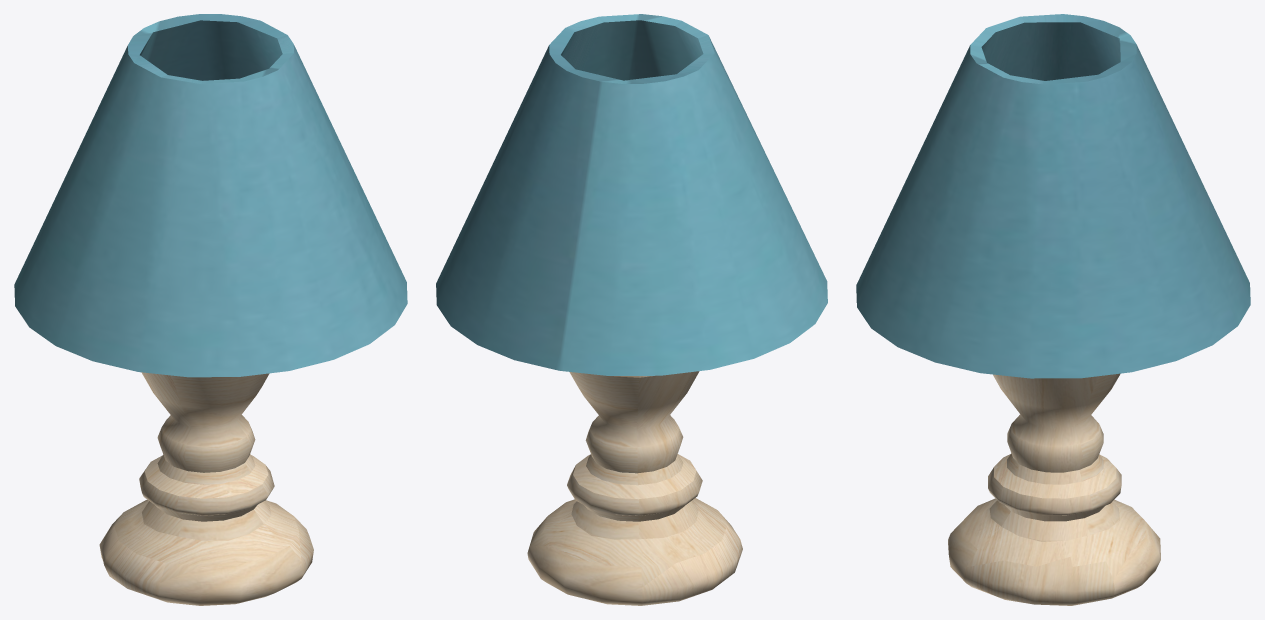
Rendered from 檯燈(reduce).fbx.
3 renders of one model, left to right at view 1: azimuth 30°, elevation 25°; view 2: azimuth 150°, elevation 25°; view 3: azimuth 270°, elevation 25°, orthographic.
Parts seen in each view (by area): view 1: Cone001, Line001; view 2: Cone001, Line001; view 3: Cone001, Line001.
Part boxes in pixels (x1,y1,x2,y2): Cone001: (14, 14, 407, 377); Line001: (99, 372, 313, 605); Cone001: (436, 14, 827, 375); Line001: (527, 371, 742, 605); Cone001: (856, 14, 1250, 378); Line001: (948, 373, 1160, 605).
Size of the model in its own units: 260 by 385 by 260.
3 materials, 3 textured.
